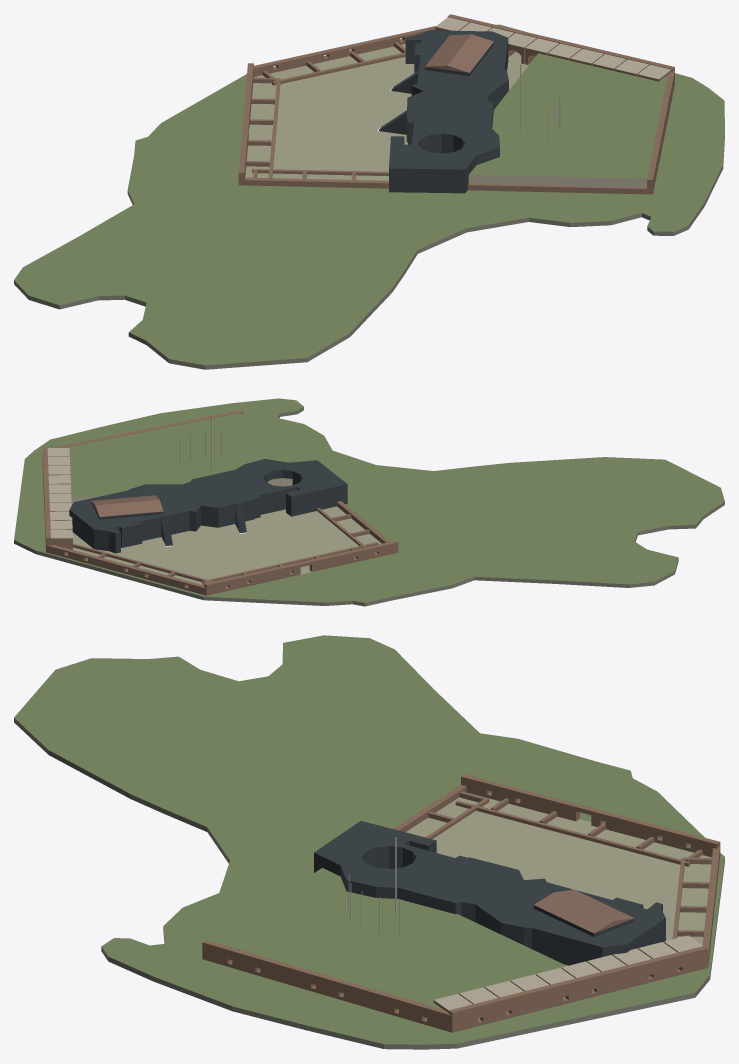
Rendered from fort-sumter-far.glb.
3 renders of one model, top to bottom at view 1: azimuth 30°, elevation 25°; view 2: azimuth 150°, elevation 25°; view 3: azimuth 270°, elevation 25°, orthographic. The views are drawn at different scales.
Parts seen in each view (by area): view 1: fort-sumter-0-grass, fort-sumter-0-ground, fort-sumter-0-battery, fort-sumter-0-brick, fort-sumter-0-stone, fort-sumter-0-rock, fort-sumter-0-roof; view 2: fort-sumter-0-grass, fort-sumter-0-battery, fort-sumter-0-ground, fort-sumter-0-brick, fort-sumter-0-rock, fort-sumter-0-stone, fort-sumter-0-roof; view 3: fort-sumter-0-grass, fort-sumter-0-brick, fort-sumter-0-battery, fort-sumter-0-ground, fort-sumter-0-rock, fort-sumter-0-stone, fort-sumter-0-roof.
Part boxes in pixels (x1=…): fort-sumter-0-grass: x1=14, y1=24, x2=724, y2=365; fort-sumter-0-ground: x1=245, y1=44, x2=529, y2=180; fort-sumter-0-battery: x1=379, y1=30, x2=508, y2=193; fort-sumter-0-brick: x1=238, y1=14, x2=674, y2=194; fort-sumter-0-stone: x1=435, y1=17, x2=671, y2=187; fort-sumter-0-rock: x1=14, y1=136, x2=724, y2=369; fort-sumter-0-roof: x1=425, y1=34, x2=493, y2=72; fort-sumter-0-grass: x1=14, y1=398, x2=724, y2=602; fort-sumter-0-battery: x1=69, y1=459, x2=347, y2=553; fort-sumter-0-ground: x1=67, y1=506, x2=381, y2=586; fort-sumter-0-brick: x1=42, y1=410, x2=398, y2=595; fort-sumter-0-rock: x1=14, y1=407, x2=724, y2=606; fort-sumter-0-stone: x1=47, y1=448, x2=292, y2=538; fort-sumter-0-roof: x1=92, y1=495, x2=163, y2=516; fort-sumter-0-grass: x1=14, y1=635, x2=724, y2=1044; fort-sumter-0-brick: x1=202, y1=774, x2=720, y2=1032; fort-sumter-0-battery: x1=314, y1=821, x2=665, y2=965; fort-sumter-0-ground: x1=231, y1=792, x2=711, y2=1019; fort-sumter-0-rock: x1=14, y1=718, x2=724, y2=1049; fort-sumter-0-stone: x1=434, y1=935, x2=702, y2=1010; fort-sumter-0-roof: x1=534, y1=889, x2=634, y2=933.
Size of the model in its own units: 213 by 24 by 157.
